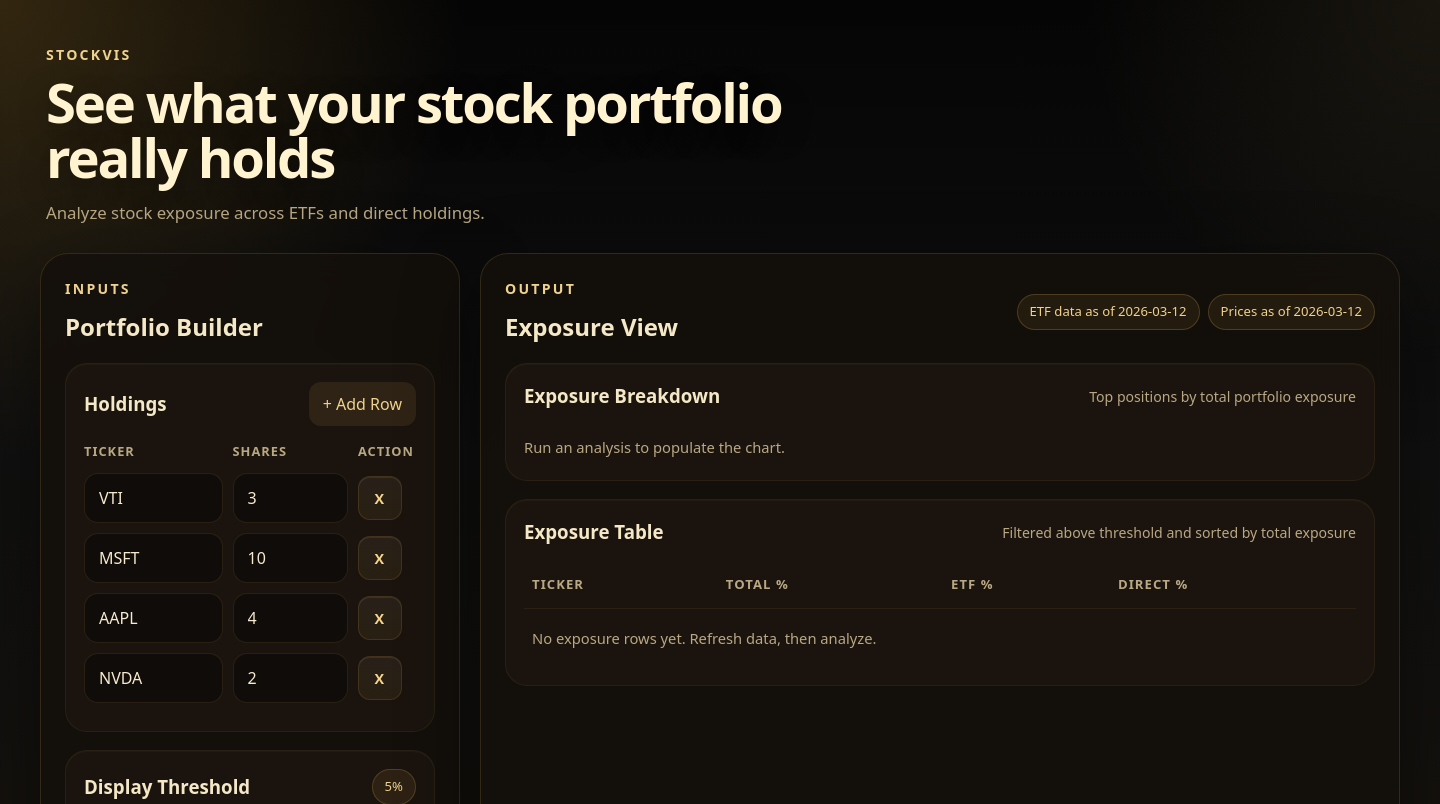
Test: App › removes a holding row when remove is clicked
Click the 2nd button with class "icon-button".
click(380, 558)  # box [358,536,402,580]
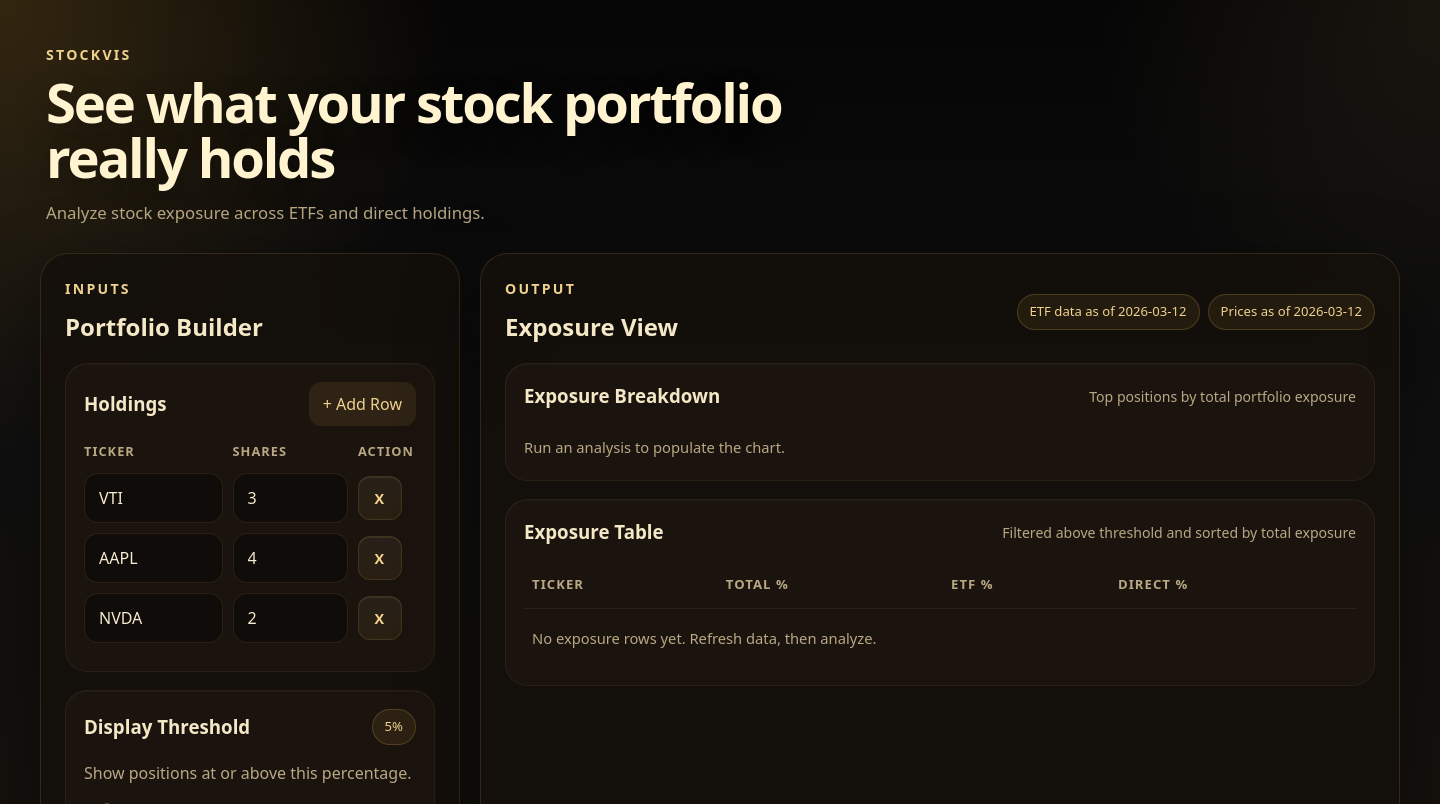
Expected: the number of fields is 3, [84,473,222,523]; [84,533,222,583]; [84,593,222,643]
